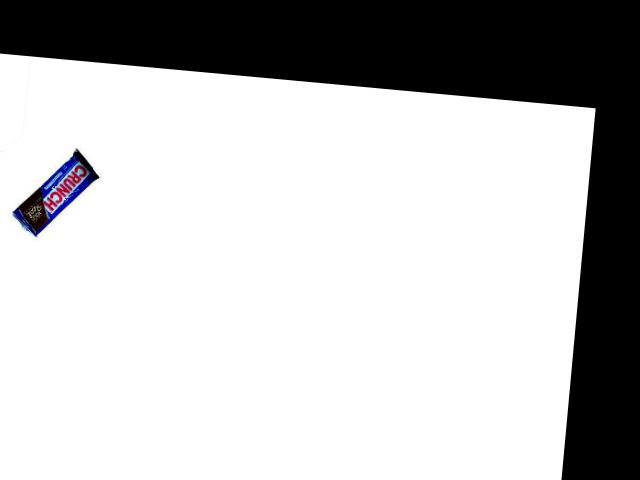chocolate: (8, 142, 102, 244)
